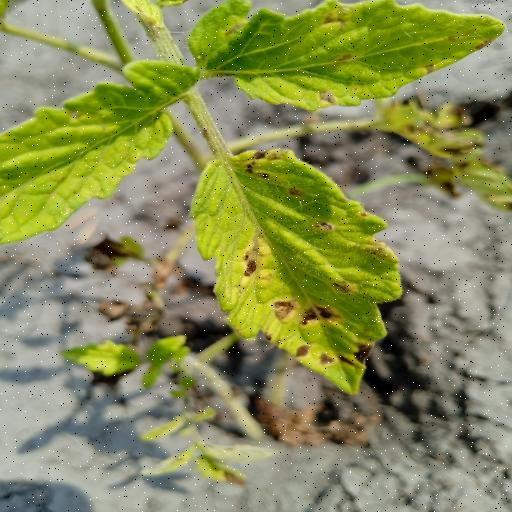Tomato_Brown_Spots: (194, 145, 405, 399), (0, 56, 206, 246), (187, 0, 502, 114)
